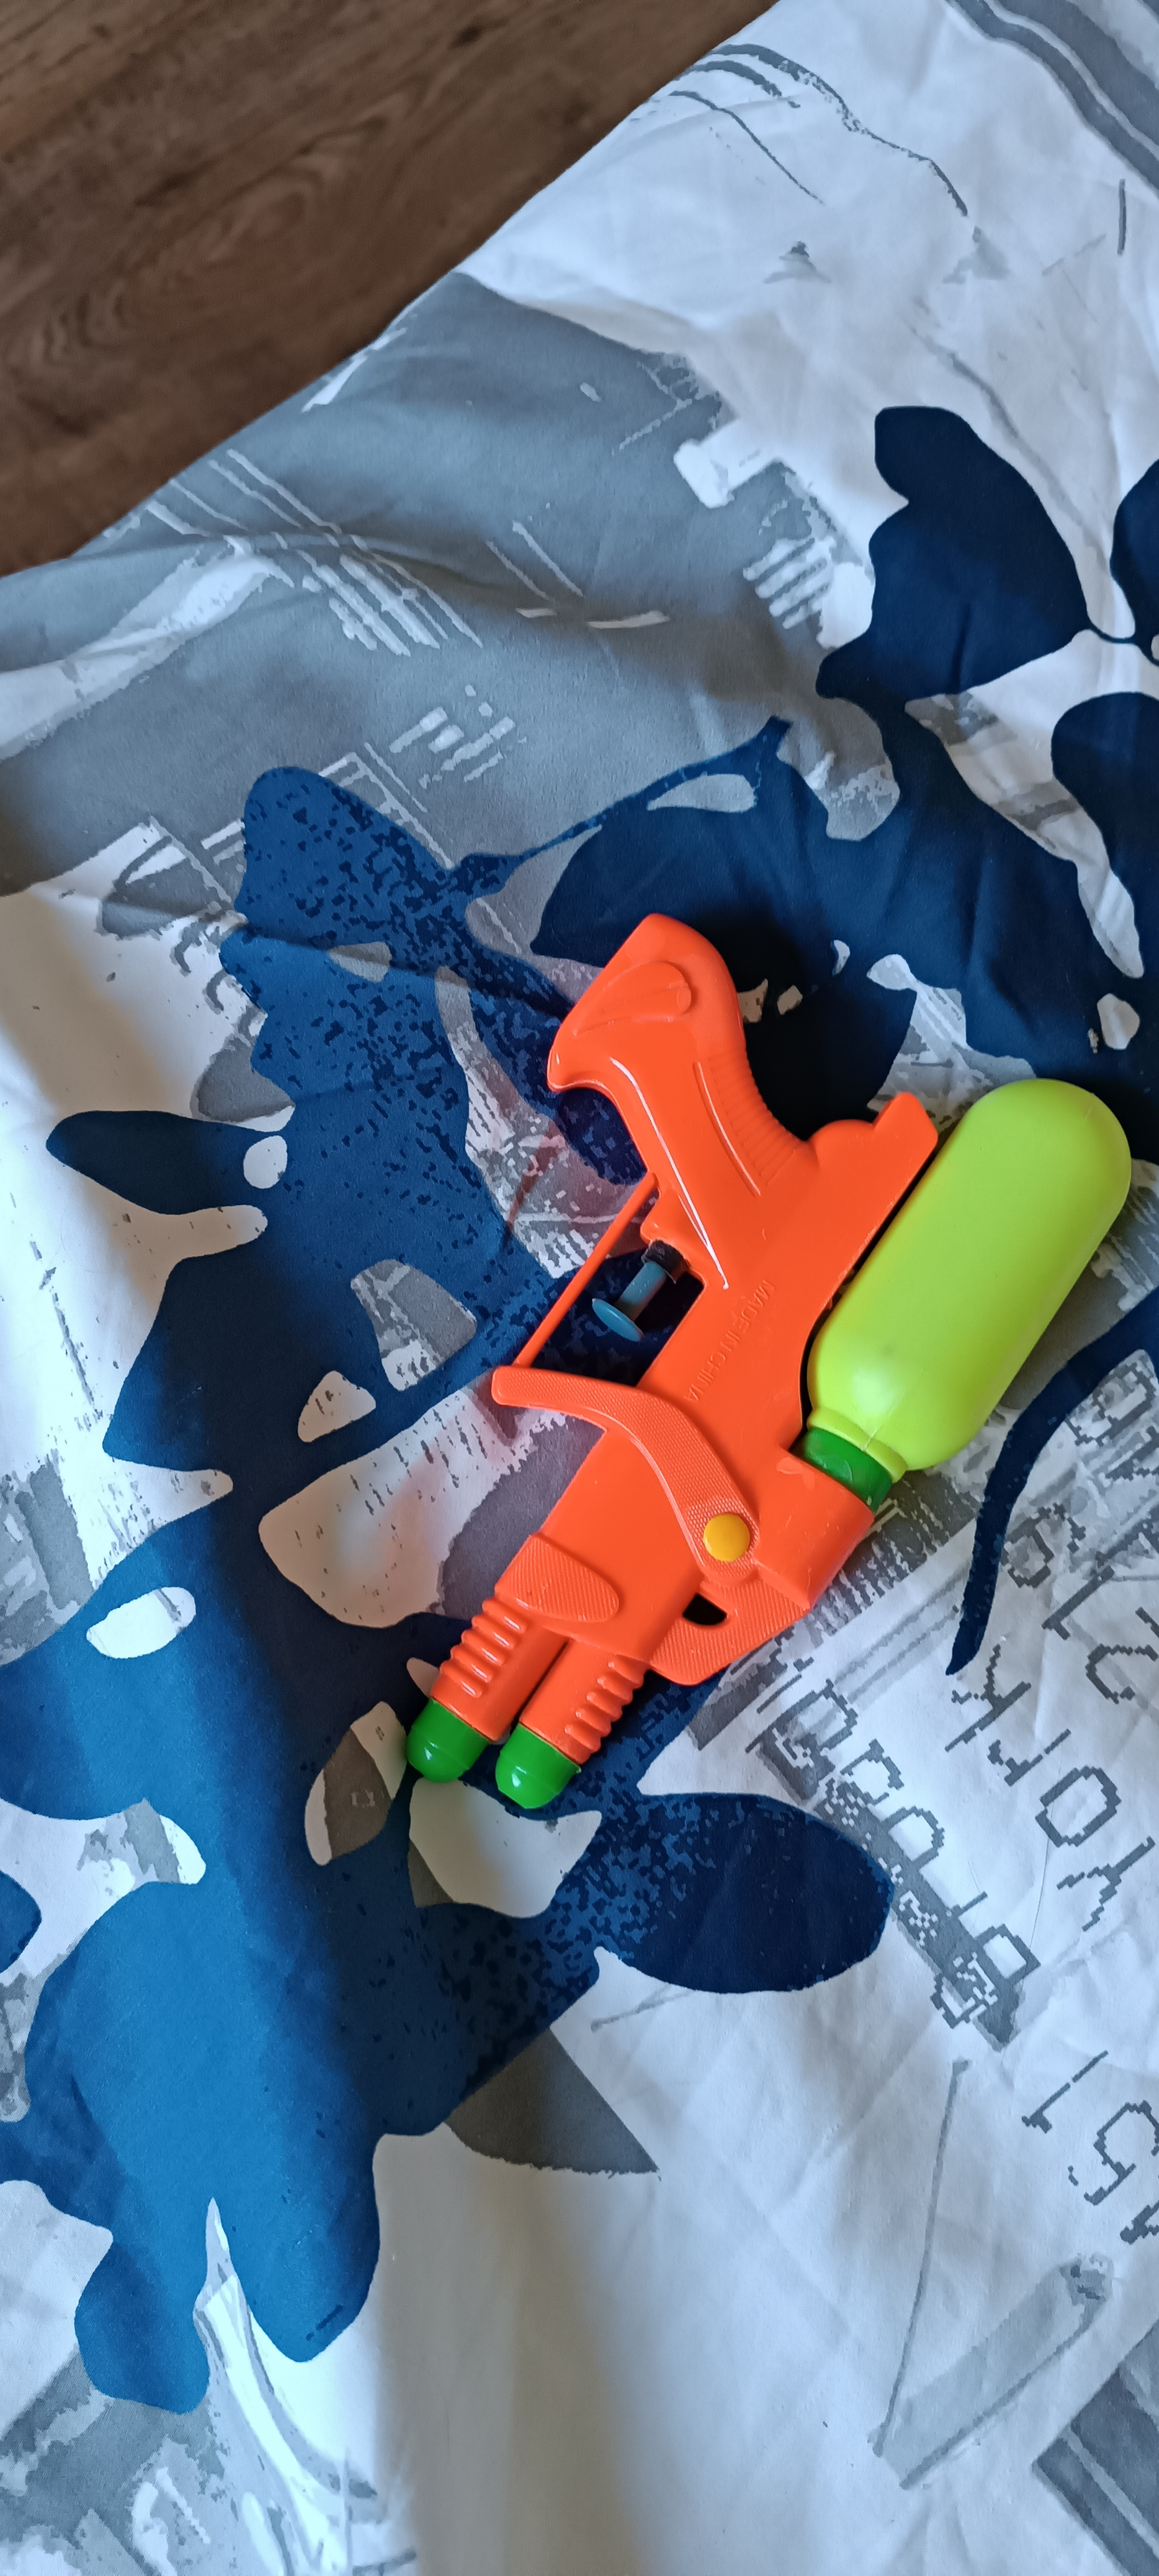Water Gun: (405, 912, 1133, 1812)
